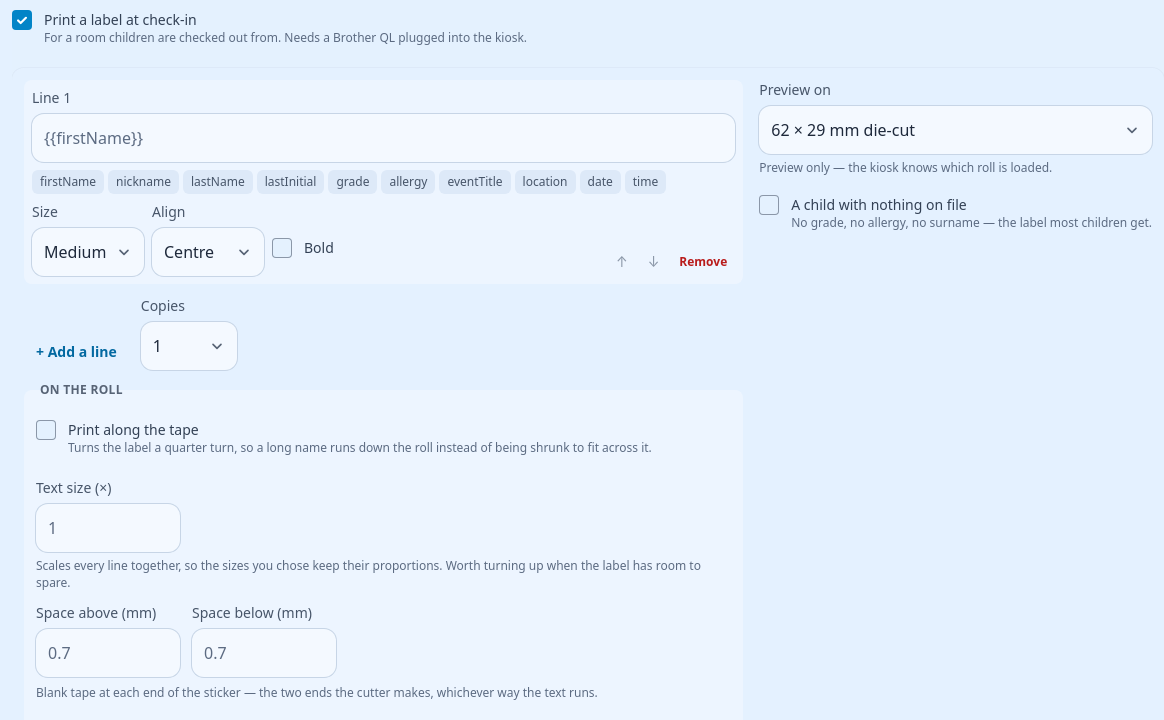
Test: LabelTemplateField › offers the allergy token, and says so once it is used
The width and height of the screenshot is (1164, 720).
Expected: the text "will print each child" is not shown
Click the button "allergy" at {"x": 408, "y": 182}, box x1=381 y1=170 x2=435 y2=194
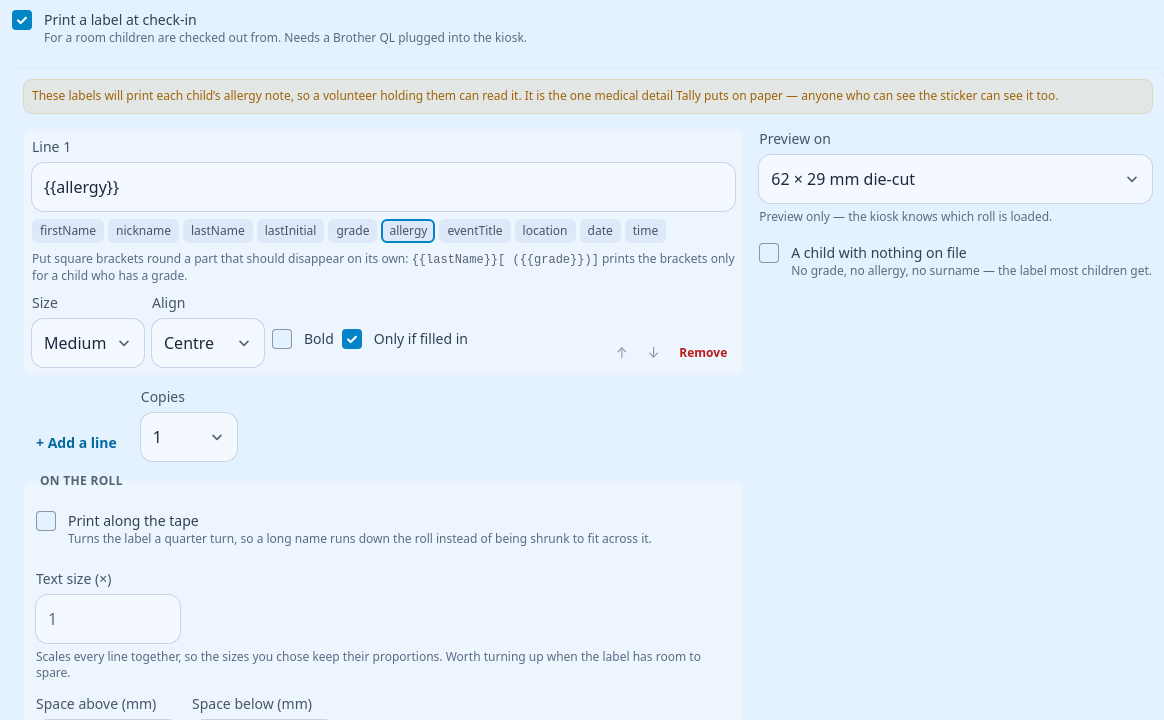
Expected: the text "will print each child" is shown, x1=32 y1=87 x2=1059 y2=104
